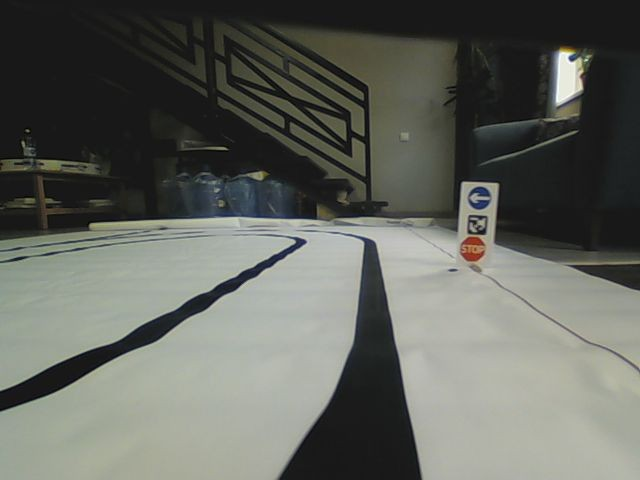Stop: (459, 236, 485, 262)
